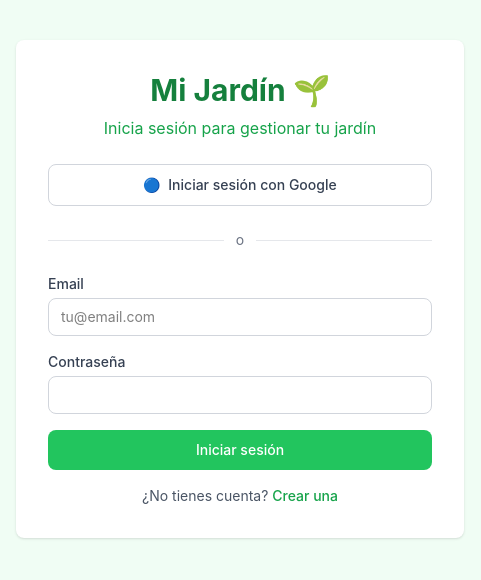
Test: Login › shows validation error for invalid email
In the field labelled "Email": (240, 317) [48,298,432,336], type "invalid"
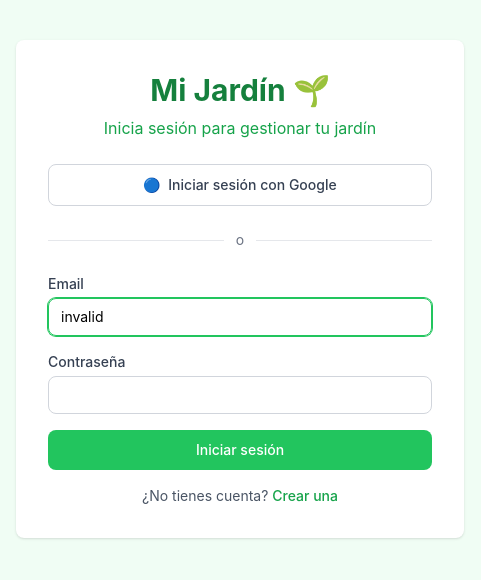
Click the button "Iniciar sesión": (240, 450) [48,430,432,470]
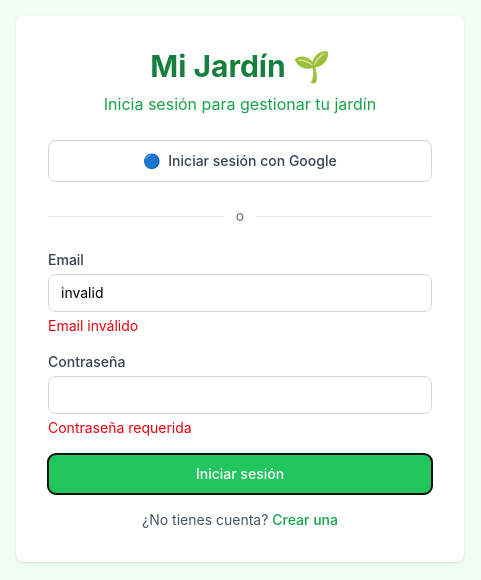
Result: the text "Email inválido" is shown at [48,317,138,334]
